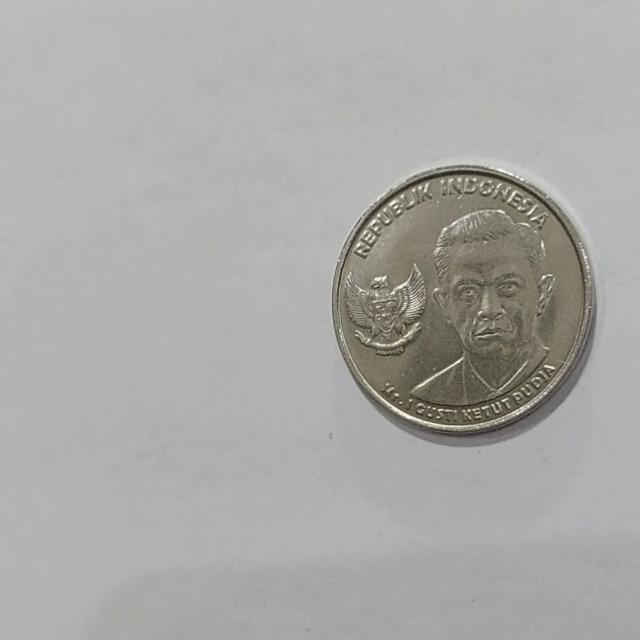Rp100: (331, 161, 597, 438), (405, 205, 559, 411)
